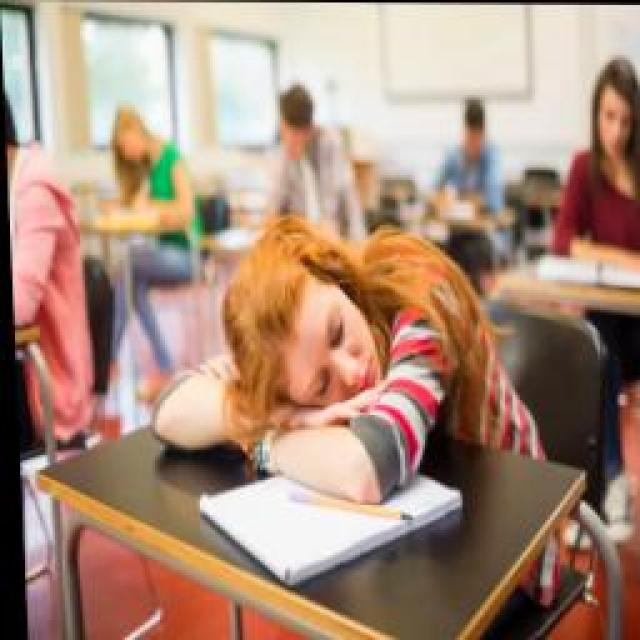sleep: (137, 208, 525, 500)
